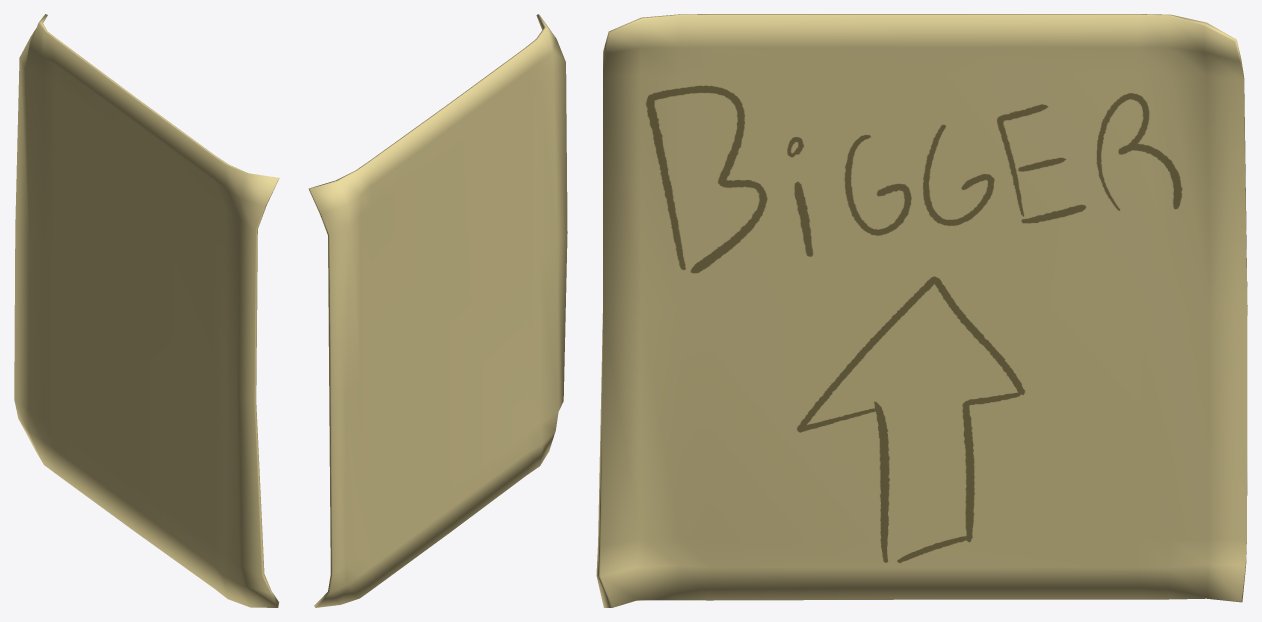
The model's file is papelBigger.fbx.
The picture shows the model from 3 angles, left to right: view 1: azimuth 30°, elevation 25°; view 2: azimuth 150°, elevation 25°; view 3: azimuth 270°, elevation 25°; orthographic projection. The views are drawn at different scales.
Visible parts, largest first — view 1: Papel; view 2: Papel; view 3: Papel.
Part boxes in pixels (left/top/right/bottom): Papel: left=14, top=14, right=279, bottom=607; Papel: left=309, top=14, right=567, bottom=607; Papel: left=596, top=14, right=1247, bottom=607.
Size of the model in its own units: 16.28 by 200 by 202.
